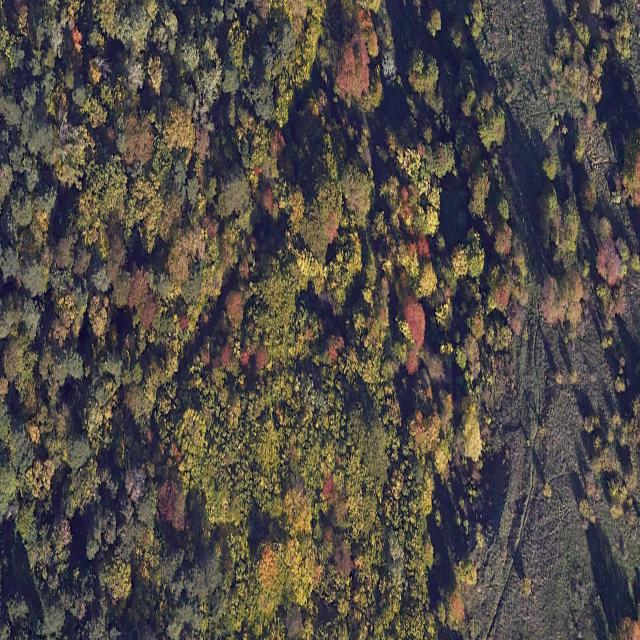grass: (479, 0, 640, 639)
tree: (535, 131, 640, 351), (545, 1, 636, 120), (580, 357, 640, 534), (616, 129, 640, 209), (613, 614, 640, 639), (555, 364, 577, 389), (520, 571, 535, 601), (542, 481, 556, 503), (540, 422, 546, 446)
